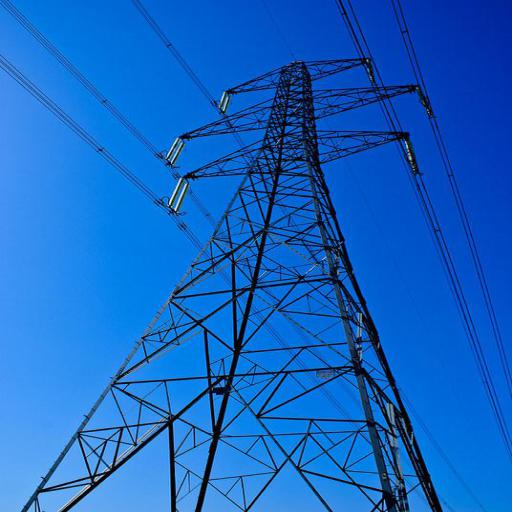ss_3: (23, 48, 436, 512)
